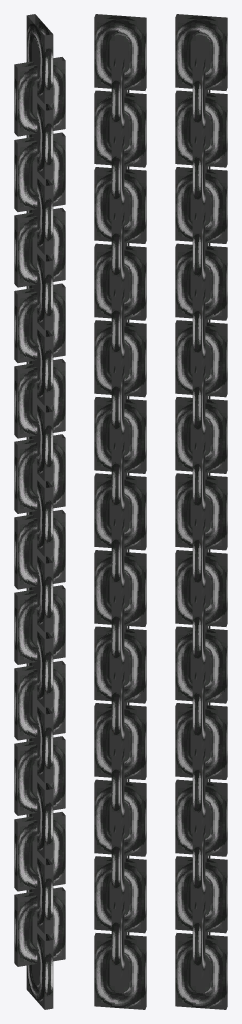
The model's file is SWORDLIGHT20_INST_CHAINB_LOD1_02.fbx.
The picture shows the model from 3 angles, left to right: view 1: azimuth 90°, elevation 25°; view 2: azimuth 150°, elevation 25°; view 3: azimuth 330°, elevation 25°; orthographic projection.
Visible parts, largest first — view 1: SWORDLIGHT20_INST_CHAINB_LOD1_02; view 2: SWORDLIGHT20_INST_CHAINB_LOD1_02; view 3: SWORDLIGHT20_INST_CHAINB_LOD1_02.
Part boxes in pixels (x1,y1,x2,y2): SWORDLIGHT20_INST_CHAINB_LOD1_02: [14, 14, 65, 1009]; SWORDLIGHT20_INST_CHAINB_LOD1_02: [94, 14, 146, 1009]; SWORDLIGHT20_INST_CHAINB_LOD1_02: [175, 14, 227, 1009].
Bounding box in the file's own units: 1000 × 21072 × 1000.
1 material, 1 textured.
